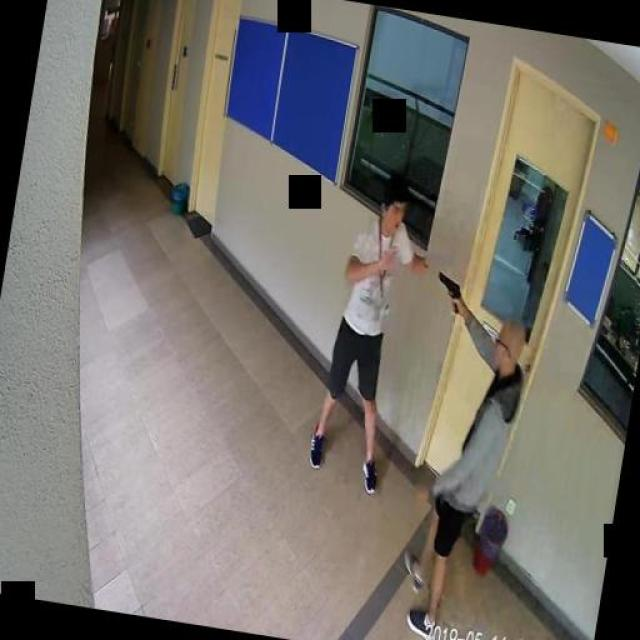gun: (431, 269, 464, 311)
